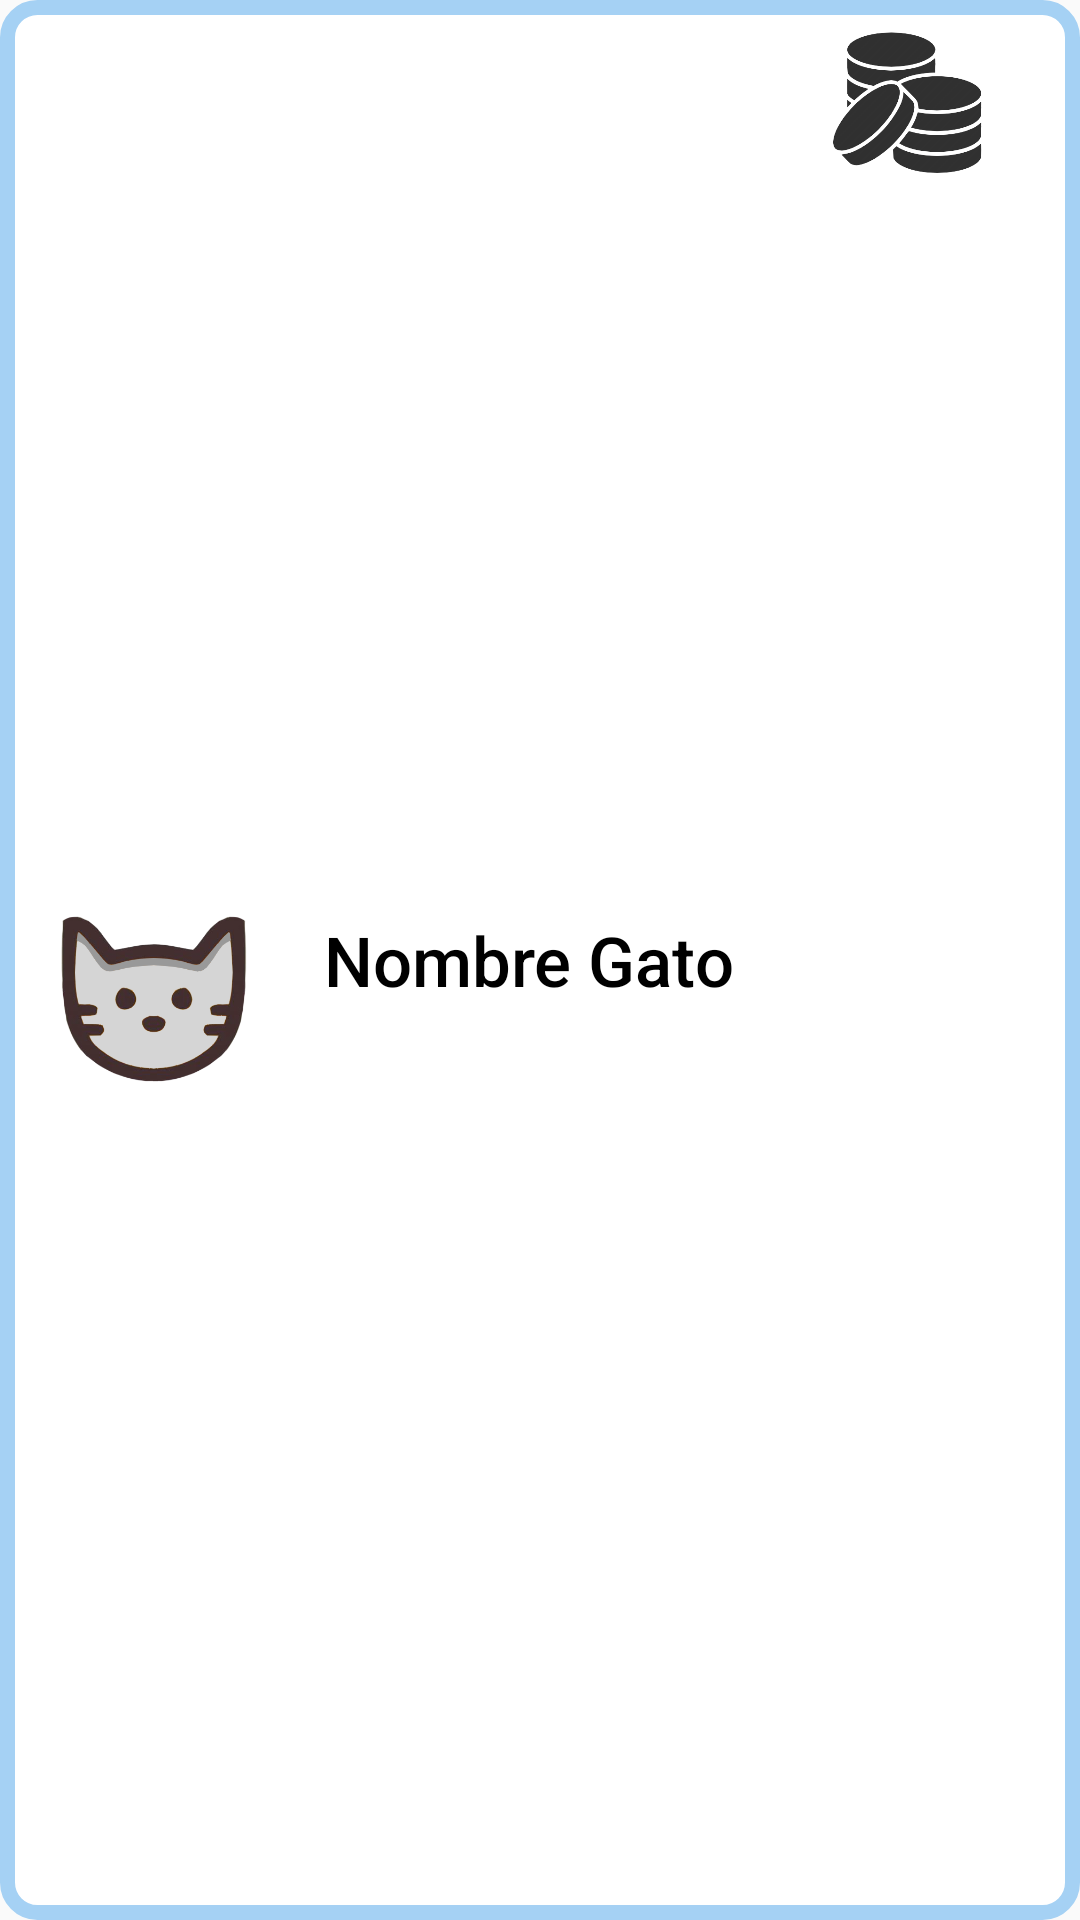

Named icons in this screenshot (1080 x 1920) and their centers, (x=x, y=y):
coins: (x=907, y=102)
gato gris: (x=153, y=999)
